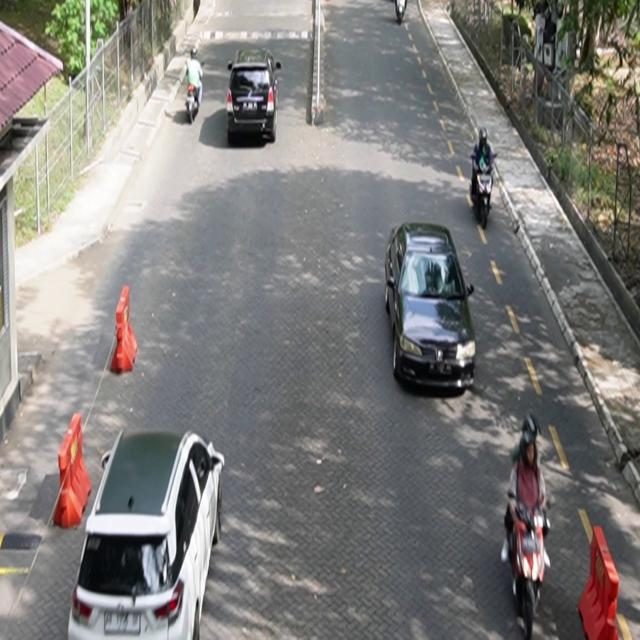car: (68, 428, 226, 640), (385, 222, 477, 395), (227, 48, 282, 144)
